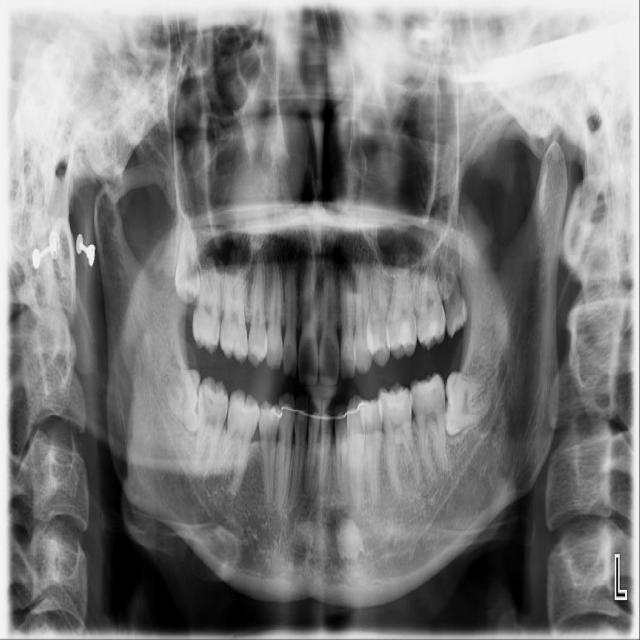impacted tooth: (445, 373, 495, 435), (173, 213, 203, 304), (161, 369, 201, 431), (438, 254, 467, 336)
